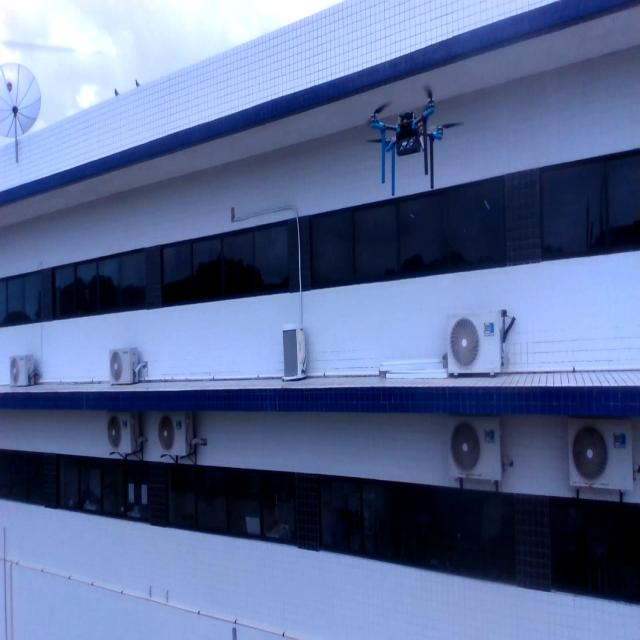-uav-: (358, 71, 472, 206)
